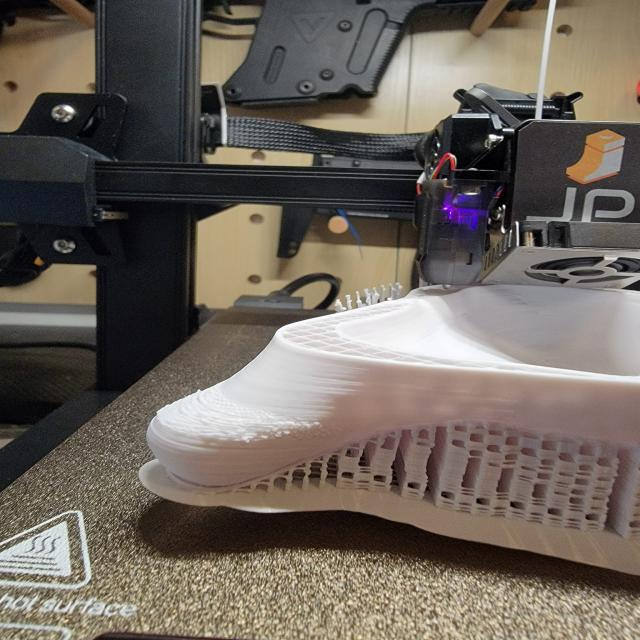4: (126, 483, 356, 528)
spaghetti: (158, 412, 238, 443), (246, 418, 313, 442)
